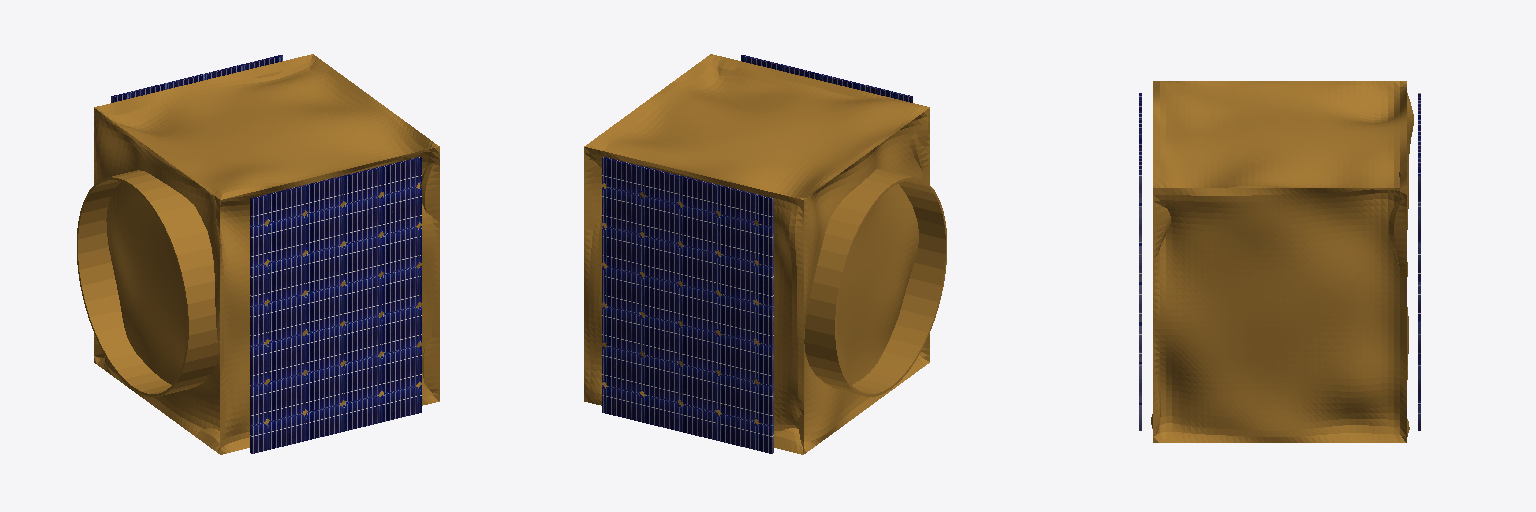
3 views of the same model, side by side, from view 1: azimuth 30°, elevation 25°; view 2: azimuth 150°, elevation 25°; view 3: azimuth 270°, elevation 25° (orthographic).
Visible parts, largest first — view 1: g_MLI_Mat, g_Solar_Cell_Mat; view 2: g_MLI_Mat, g_Solar_Cell_Mat; view 3: g_MLI_Mat, g_Solar_Cell_Mat.
Boxes of the visible parts, x1,y1,x2,y2 form: g_MLI_Mat: [77, 54, 439, 454]; g_Solar_Cell_Mat: [111, 55, 421, 453]; g_MLI_Mat: [584, 54, 946, 454]; g_Solar_Cell_Mat: [602, 55, 912, 453]; g_MLI_Mat: [1151, 81, 1413, 442]; g_Solar_Cell_Mat: [1139, 93, 1420, 430].
Size of the model in its own units: 1.01 by 1.02 by 1.
Materials: 2 (1 with a texture image).